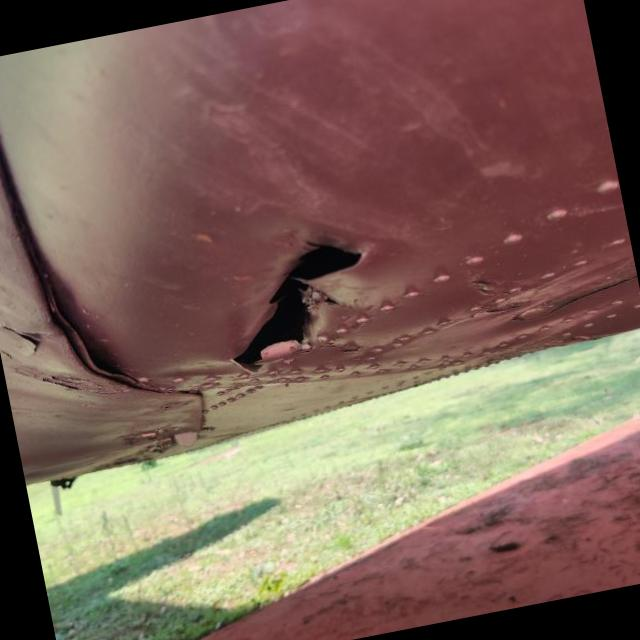Crack: (235, 245, 361, 369)
